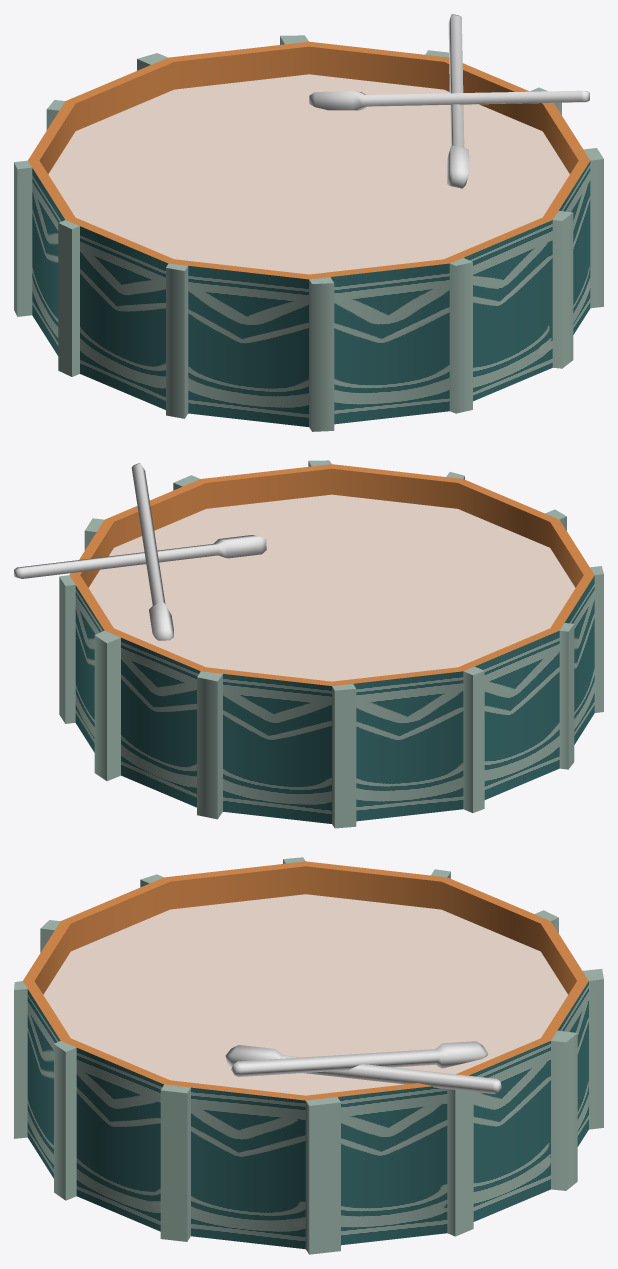
File: drum.fbx
The picture shows the model from 3 angles, top to bottom: view 1: azimuth 30°, elevation 25°; view 2: azimuth 150°, elevation 25°; view 3: azimuth 270°, elevation 25°; orthographic projection. The views are drawn at different scales.
Parts seen in each view (by area): view 1: Cilindro, Cubo, Cubo.001; view 2: Cilindro, Cubo.001, Cubo; view 3: Cilindro, Cubo, Cubo.001.
Boxes of the visible parts, x1,y1,x2,y2 form: Cilindro: (14,35,603,431); Cubo: (309,90,589,110); Cubo.001: (446,14,469,188); Cilindro: (59,460,603,828); Cubo.001: (14,535,266,578); Cubo: (131,463,173,640); Cilindro: (14,857,603,1254); Cubo: (231,1041,487,1076); Cubo.001: (225,1045,501,1094).
Size of the model in its own units: 445 by 155 by 446.
